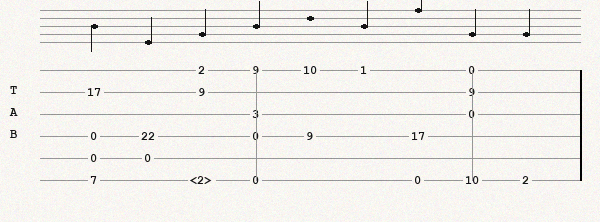0: (90, 152, 101, 164), (90, 130, 101, 142), (144, 152, 155, 164), (252, 130, 263, 142), (252, 174, 263, 186), (414, 174, 425, 186), (468, 64, 479, 76), (468, 108, 479, 120)
1: (360, 64, 371, 76)
10: (303, 64, 321, 76), (465, 174, 483, 186)
17: (87, 86, 105, 98), (411, 130, 429, 142)
2: (198, 64, 209, 76), (522, 174, 533, 186)
22: (141, 130, 159, 142)
3: (252, 108, 263, 120)
7: (90, 174, 101, 186)
9: (198, 86, 209, 98), (252, 64, 263, 76), (306, 130, 317, 142), (468, 86, 479, 98)
harmonic: (190, 174, 217, 186)
